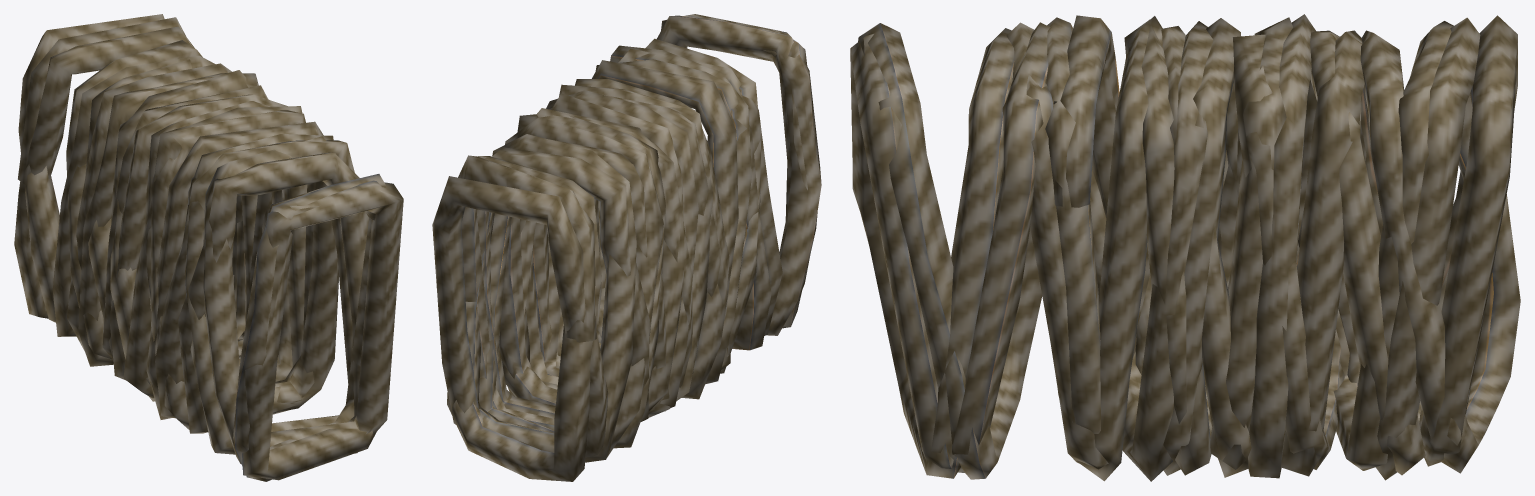
File: SM_Rope-Wrap-LongStraight.fbx
3 views of the same model, side by side, from view 1: azimuth 30°, elevation 25°; view 2: azimuth 150°, elevation 25°; view 3: azimuth 270°, elevation 25° (orthographic). The views are drawn at different scales.
Parts seen in each view (by area): view 1: SM_Rope-Wrap-LongStraight_LOD0; view 2: SM_Rope-Wrap-LongStraight_LOD0; view 3: SM_Rope-Wrap-LongStraight_LOD0.
Boxes of the visible parts, <box> form: SM_Rope-Wrap-LongStraight_LOD0: <box>14,14,403,481</box>; SM_Rope-Wrap-LongStraight_LOD0: <box>432,14,821,481</box>; SM_Rope-Wrap-LongStraight_LOD0: <box>850,14,1520,481</box>.
Bounding box in the file's own units: 19.17 × 48.23 × 31.83.
1 material, 1 textured.
